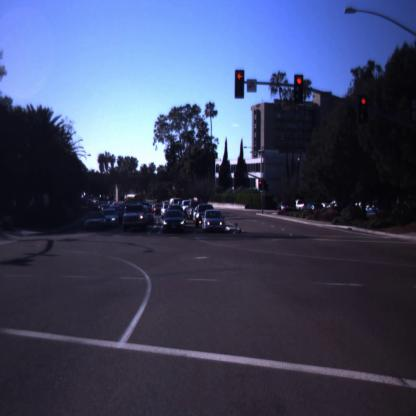trafficlight: (292, 70, 306, 109), (234, 68, 246, 102)
